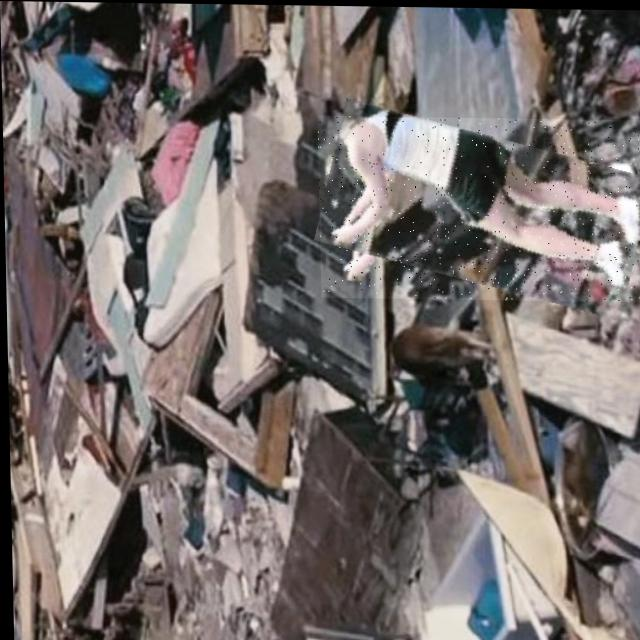Person in Rubble: (317, 114, 640, 299)
